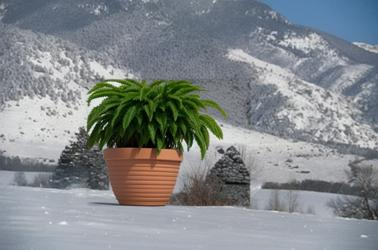pottedplant: (87, 79, 249, 205)
